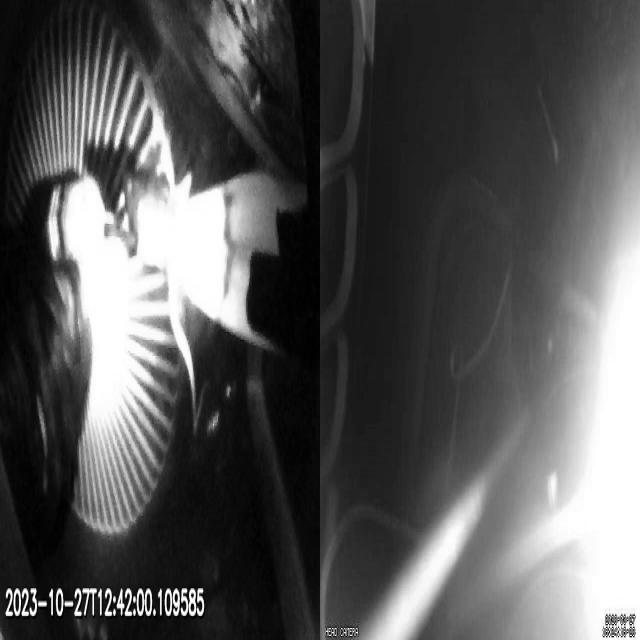head: (50, 176, 106, 262)
